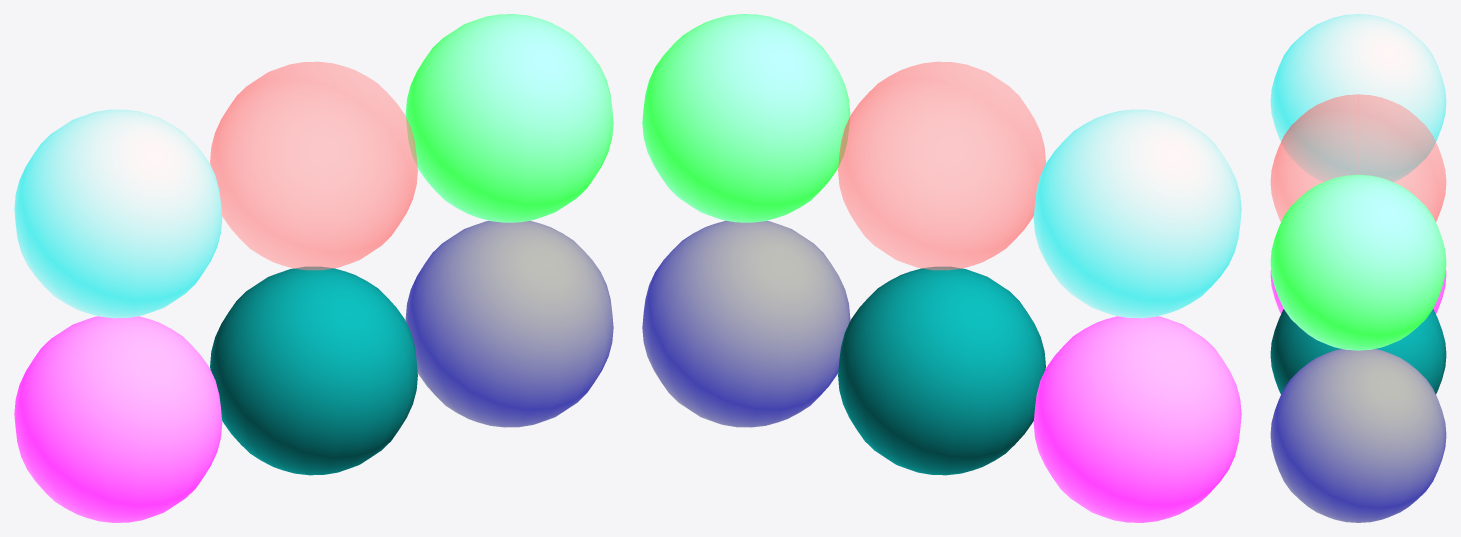
File: instance_material_same_geometry.dae
3 views of the same model, side by side, from view 1: azimuth 30°, elevation 25°; view 2: azimuth 150°, elevation 25°; view 3: azimuth 270°, elevation 25° (orthographic). The views are drawn at different scales.
Visible parts, largest first — view 1: pSphere1, pSphere5, pSphere3, pSphere4, pSphere2, pSphere6; view 2: pSphere1, pSphere5, pSphere3, pSphere4, pSphere2, pSphere6; view 3: pSphere5, pSphere6, pSphere1, pSphere2, pSphere4, pSphere3.
Boxes of the visible parts, x1,y1,x2,y2 form: pSphere1: [14, 109, 222, 318]; pSphere5: [405, 14, 613, 222]; pSphere3: [14, 316, 222, 522]; pSphere4: [210, 267, 417, 475]; pSphere2: [210, 61, 417, 270]; pSphere6: [405, 220, 613, 427]; pSphere1: [1033, 109, 1241, 318]; pSphere5: [642, 14, 850, 222]; pSphere3: [1033, 316, 1241, 522]; pSphere4: [838, 267, 1045, 475]; pSphere2: [838, 61, 1045, 270]; pSphere6: [642, 220, 850, 427]; pSphere5: [1270, 174, 1446, 350]; pSphere6: [1270, 349, 1446, 522]; pSphere1: [1270, 14, 1446, 181]; pSphere2: [1270, 94, 1446, 221]; pSphere4: [1270, 309, 1446, 394]; pSphere3: [1270, 270, 1446, 313].
Bounding box in the file's own units: 176 × 116 × 55.53.
